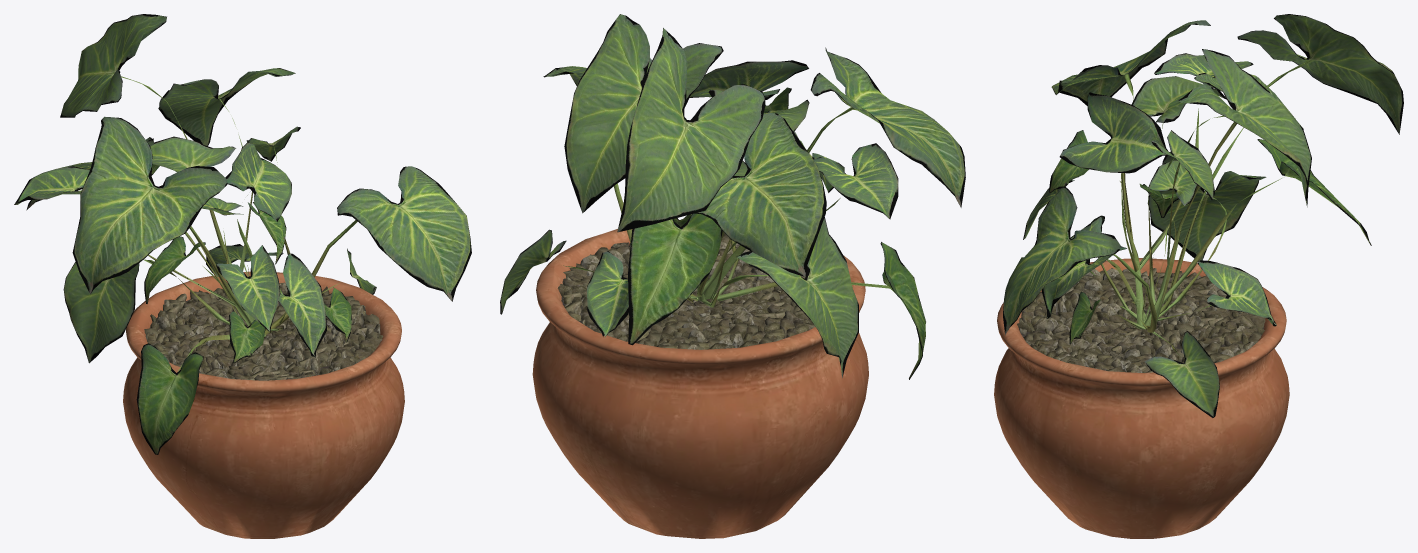
File: potted_plant_02.glb
3 renders of one model, left to right at view 1: azimuth 30°, elevation 25°; view 2: azimuth 150°, elevation 25°; view 3: azimuth 270°, elevation 25°, orthographic. The views are drawn at different scales.
Parts seen in each view (by area): view 1: potted_plant_02_leaves, potted_plant_02_pot; view 2: potted_plant_02_leaves, potted_plant_02_pot; view 3: potted_plant_02_pot, potted_plant_02_leaves.
Boxes of the visible parts, x1=… form: potted_plant_02_leaves: x1=14, y1=14, x2=471, y2=454; potted_plant_02_pot: x1=123, y1=271, x2=404, y2=538; potted_plant_02_leaves: x1=500, y1=14, x2=965, y2=379; potted_plant_02_pot: x1=532, y1=229, x2=868, y2=538; potted_plant_02_pot: x1=994, y1=258, x2=1289, y2=538; potted_plant_02_leaves: x1=1003, y1=14, x2=1403, y2=417.
Size of the model in its own units: 0.7012 by 0.8401 by 0.6574.
Materials: 2 (2 with a texture image).
